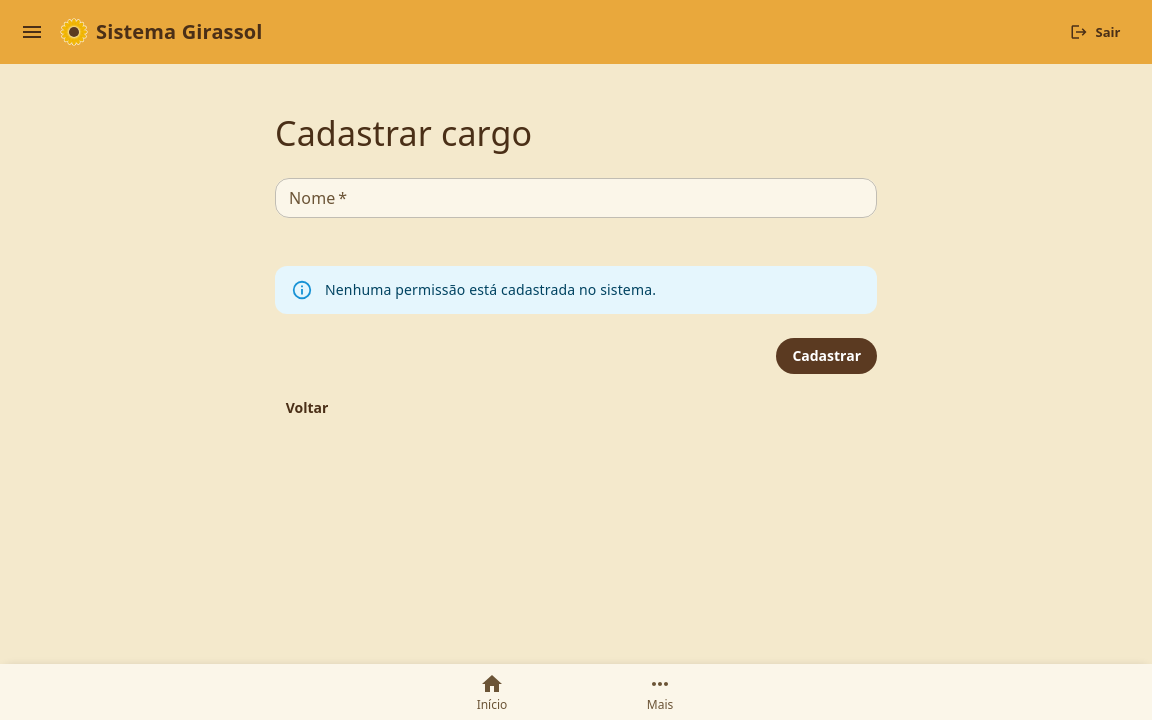
Test: CargoFormPage — cadastro/edição (#3) › bloqueia o envio sem nome
Click the button "Cadastrar" at (827, 356), box [776, 338, 877, 374]
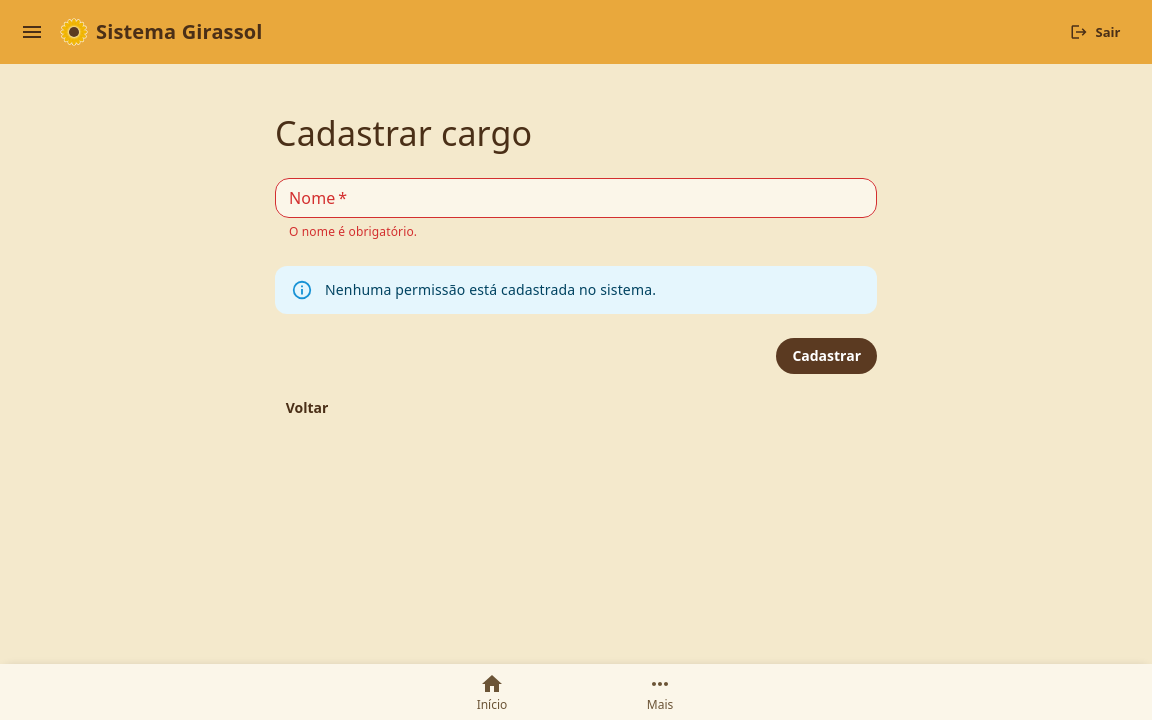
expect the text "O nome é obrigatório." is shown: met, box [289, 223, 417, 240]
